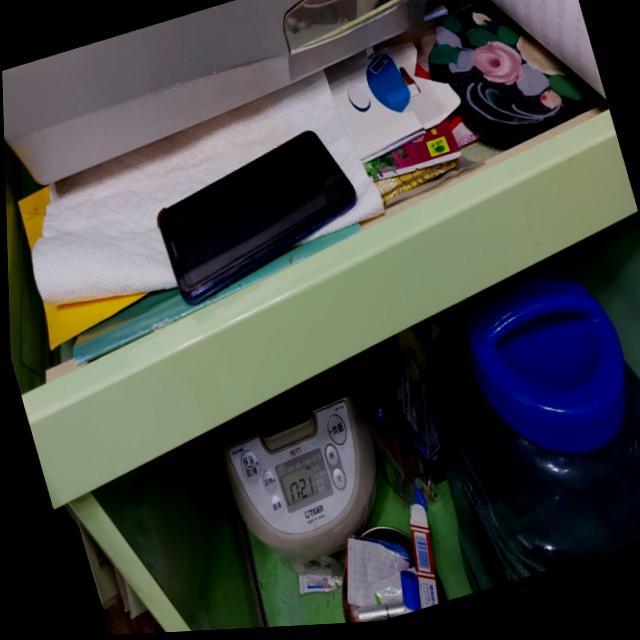Smartphone: (155, 132, 355, 305)
